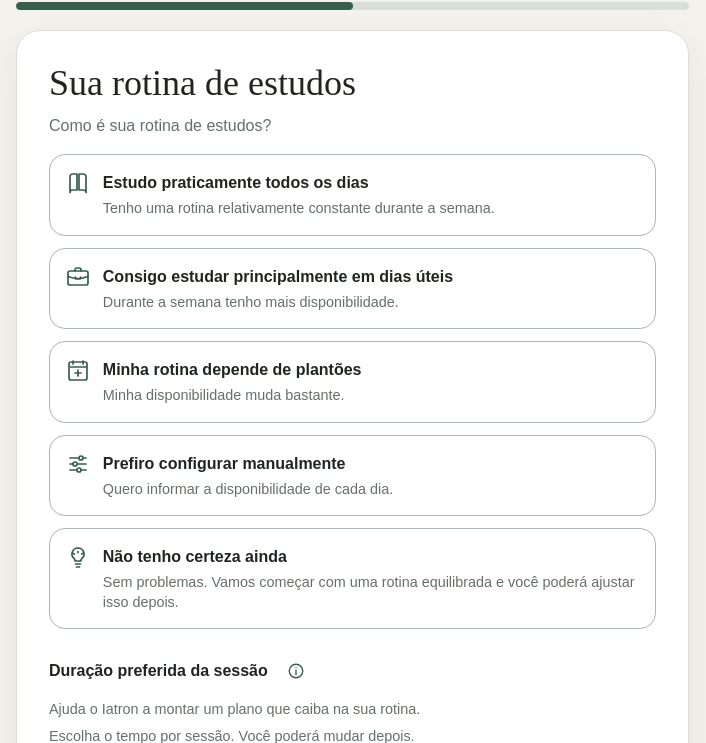
Test: rotina de estudos do onboarding › aplica o perfil Prefiro configurar manualmente e calcula o total
Click the radio button labelled "Prefiro configurar manualmente" at (224, 463), box x1=49 y1=435 x2=656 y2=516
(page scrolled)
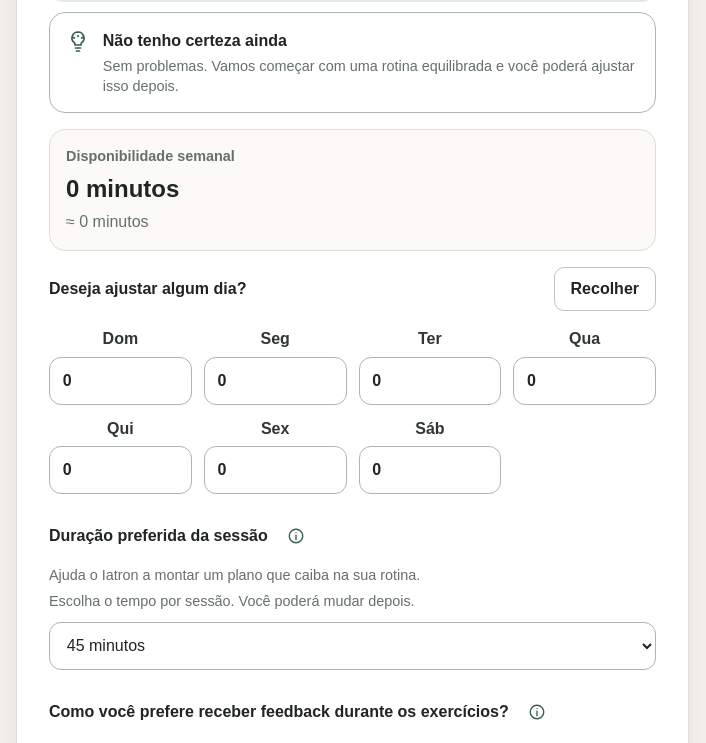
Expected: the element "Disponibilidade semanal" shows "0 minutos", x1=79 y1=213 x2=149 y2=230
Expected: the number field named "Dom em minutos" holds "0", x1=49 y1=357 x2=192 y2=405
